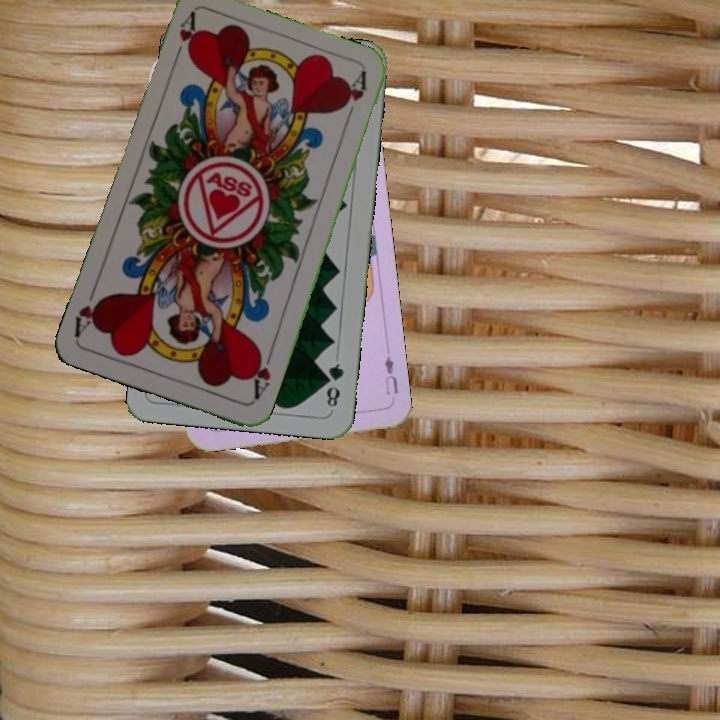EU: (380, 352, 401, 398)
G8: (321, 359, 347, 413)
HA: (169, 9, 202, 67), (246, 345, 276, 403)
